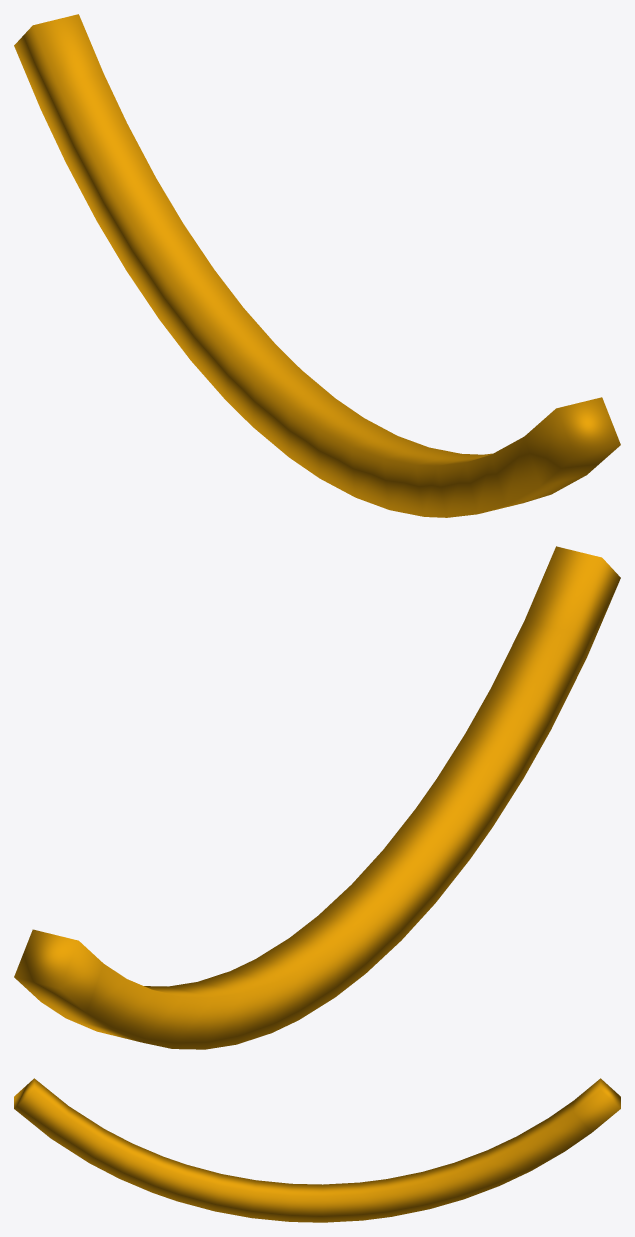
File: Beam_01_Bend_06.fbx
The picture shows the model from 3 angles, top to bottom: view 1: azimuth 30°, elevation 25°; view 2: azimuth 150°, elevation 25°; view 3: azimuth 270°, elevation 25°; orthographic projection. The views are drawn at different scales.
Visible parts, largest first — view 1: Beam_01_Bend_06; view 2: Beam_01_Bend_06; view 3: Beam_01_Bend_06.
Part boxes in pixels (left/top/right/bottom): Beam_01_Bend_06: left=14, top=14, right=620, bottom=517; Beam_01_Bend_06: left=14, top=546, right=620, bottom=1049; Beam_01_Bend_06: left=14, top=1078, right=620, bottom=1222.
Size of the model in its own units: 32.52 by 165 by 686.
